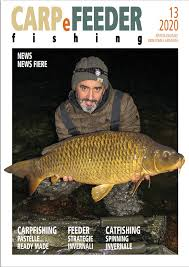carp: (4, 129, 186, 202)
